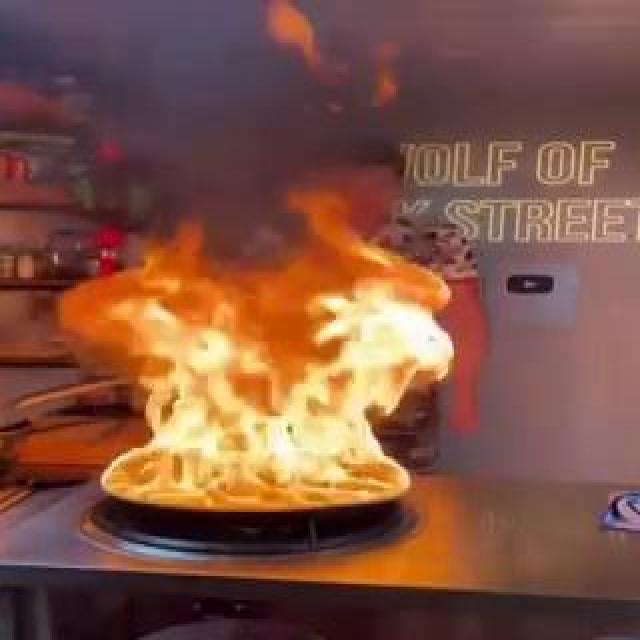Fire: (237, 332, 358, 374)
